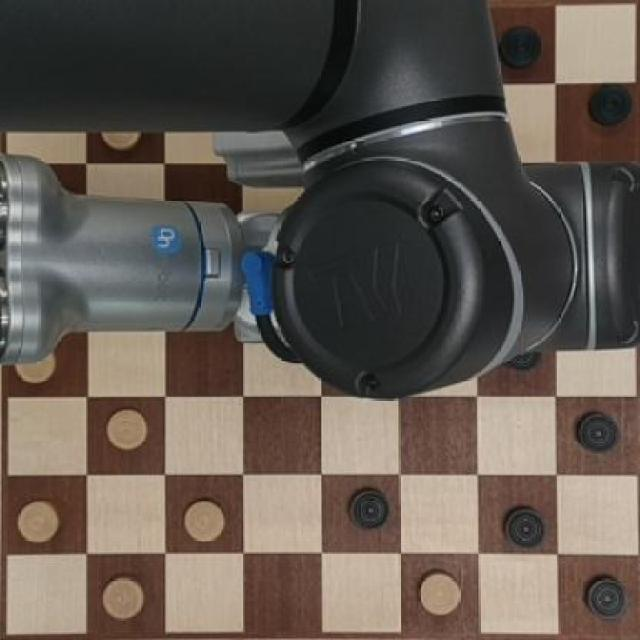black: (491, 494, 552, 557), (576, 566, 632, 624), (566, 404, 625, 458), (338, 484, 393, 538), (584, 77, 635, 133), (500, 23, 543, 76)
white: (89, 567, 154, 626), (412, 556, 465, 624), (12, 495, 70, 552), (172, 495, 233, 548), (100, 406, 152, 462)
